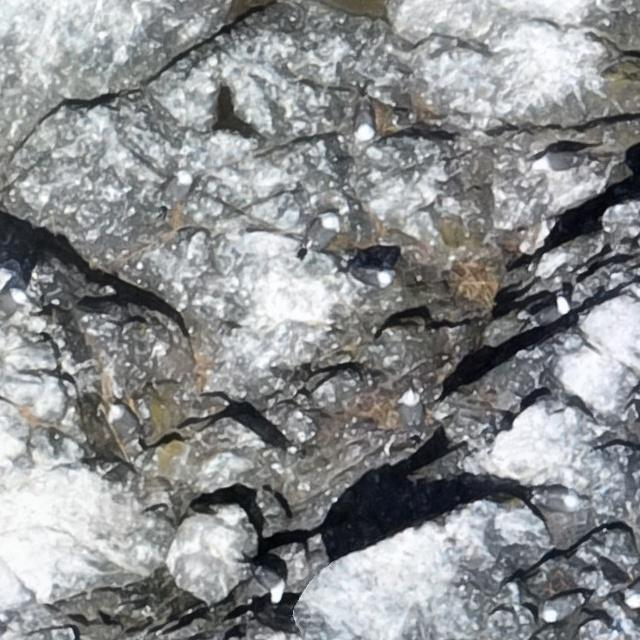umineko: (530, 485, 582, 513), (538, 593, 586, 623), (251, 564, 283, 605), (305, 215, 336, 250), (354, 92, 375, 143), (532, 151, 588, 170), (530, 300, 569, 322), (352, 266, 392, 286), (163, 175, 190, 204), (403, 386, 422, 427), (112, 406, 134, 430)
